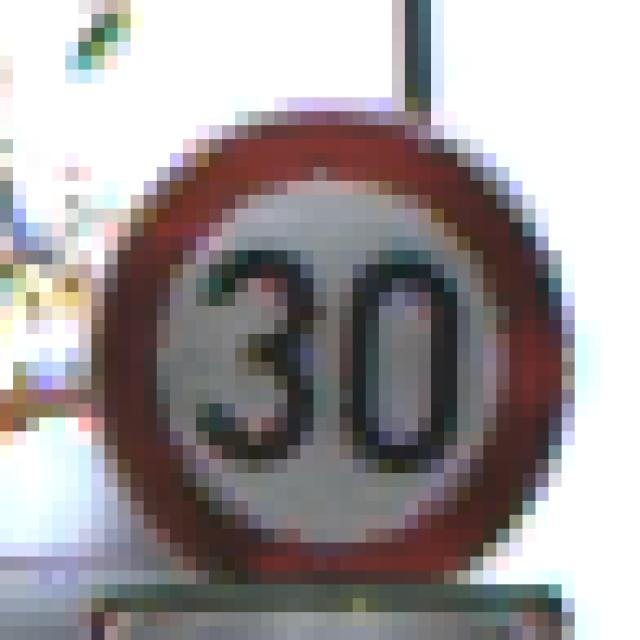Speed Limit -30-: (59, 76, 555, 564)
